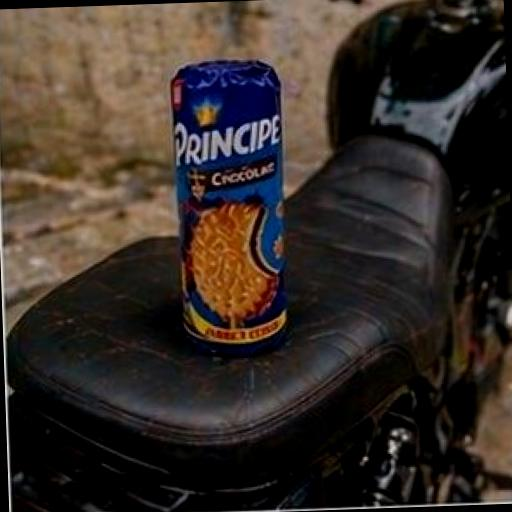prince: (90, 10, 403, 434)
